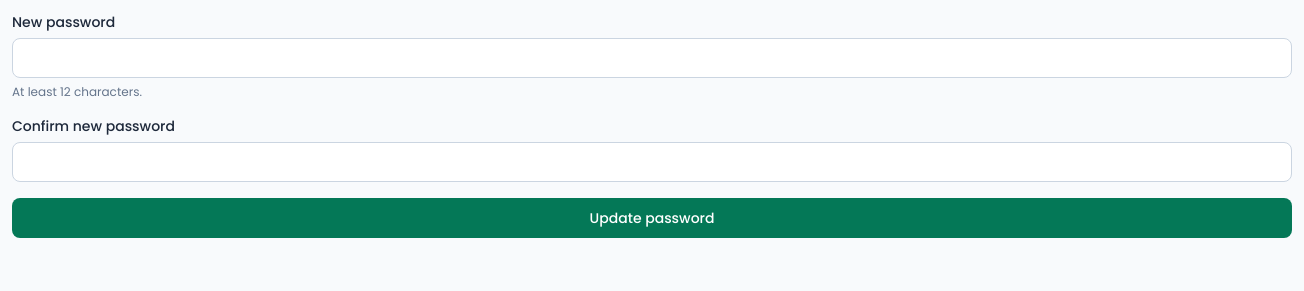
it: ResetPasswordForm › surfaces a password mismatch, which the action rejects before calling the API
In the password field labelled "New password": (652,58) 12,38 -> 1292,78, type "a-brand-new-password"
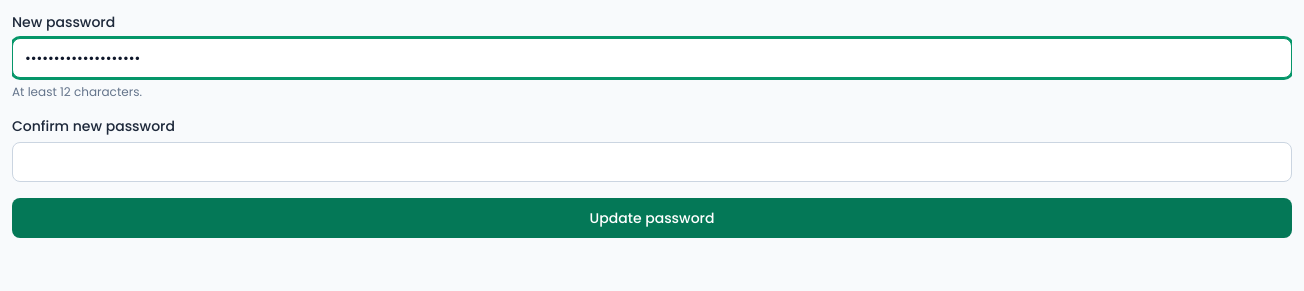
In the password field labelled "Confirm new password": (652,162) 12,142 -> 1292,182, type "a-different-password-x"
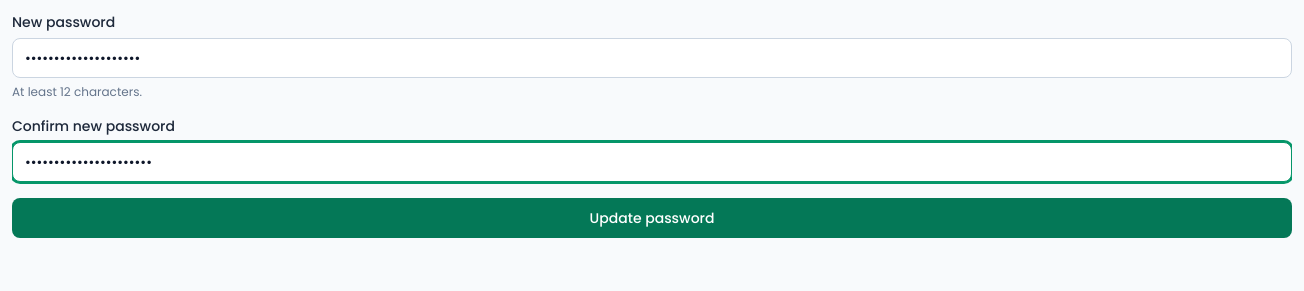
Click the button "Update password": (652,218) 12,198 -> 1292,238
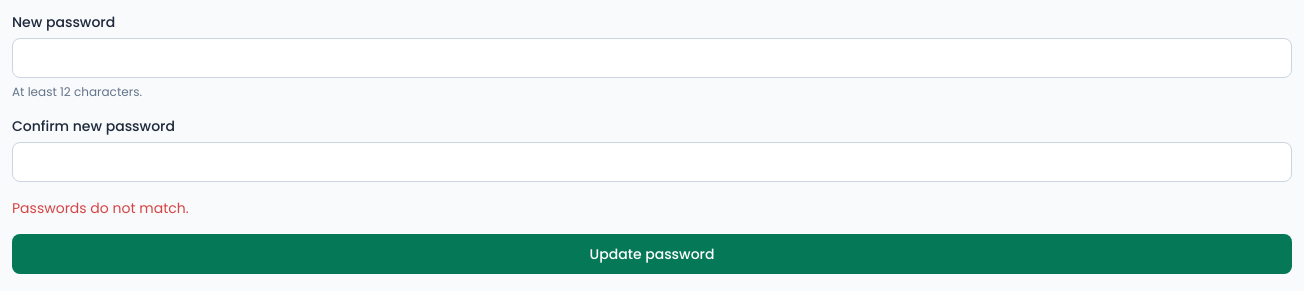
Result: the message reads "Passwords do not match." at 12,198 -> 189,218
